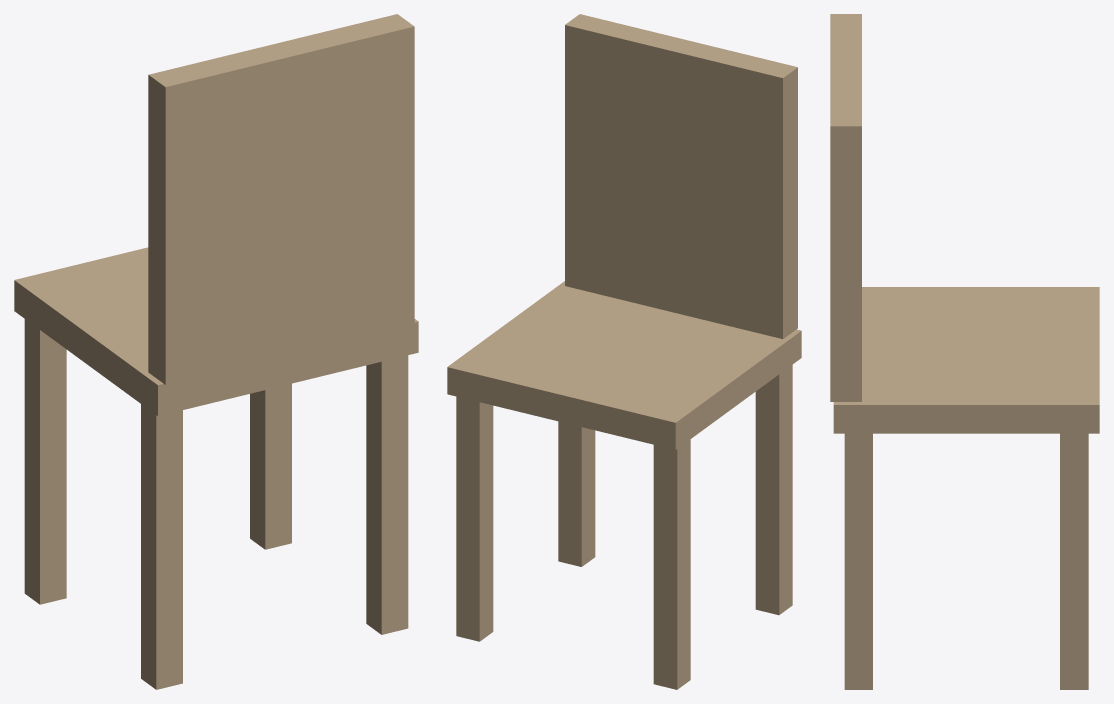
The model's file is mundane_dining_chair.glb.
3 views of the same model, side by side, from view 1: azimuth 30°, elevation 25°; view 2: azimuth 150°, elevation 25°; view 3: azimuth 270°, elevation 25° (orthographic). The views are drawn at different scales.
Size of the model in its own units: 0.44 by 0.98 by 0.425.
